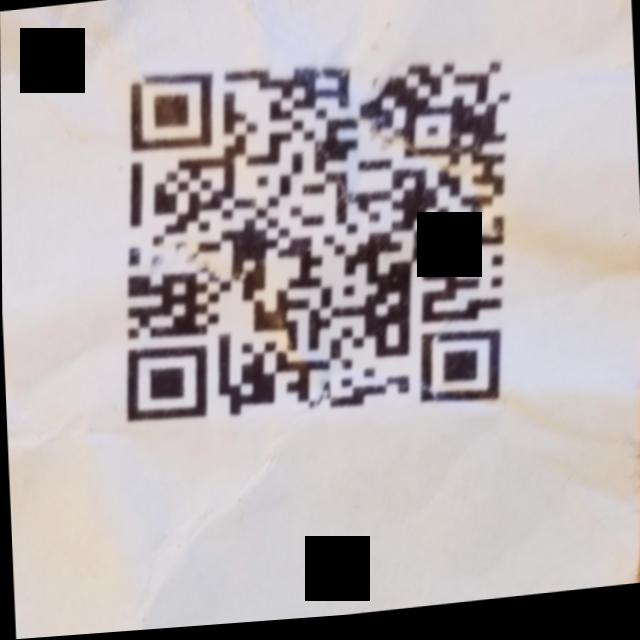QR_CODE: (86, 30, 542, 474)
